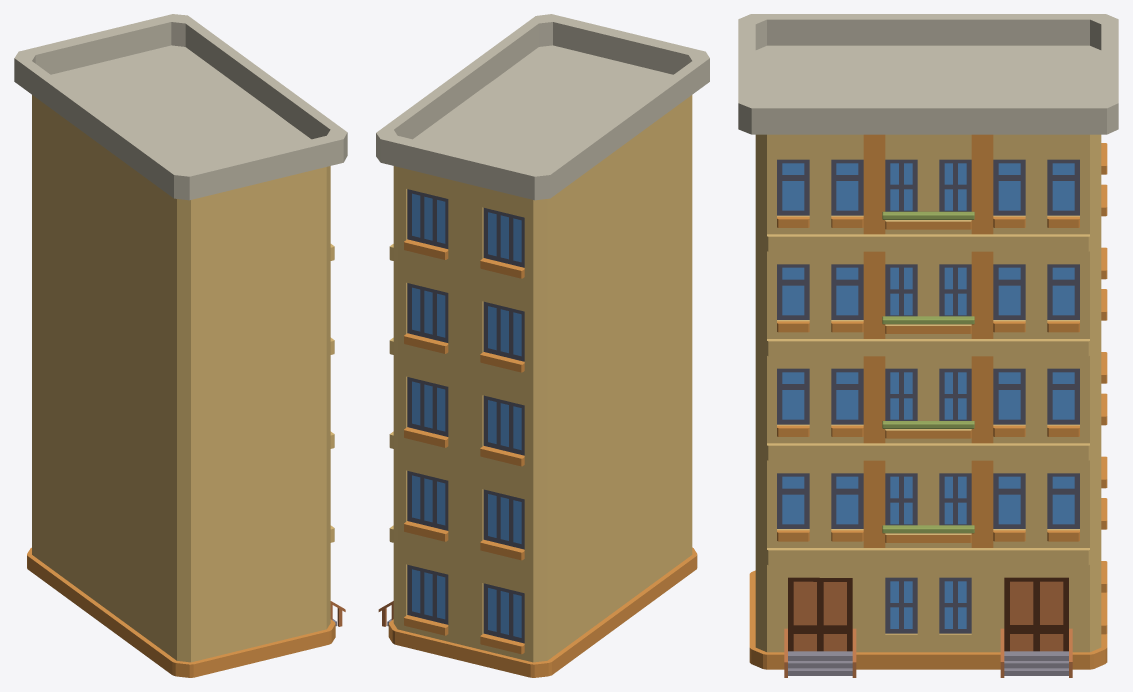
The picture shows the model from 3 angles, left to right: view 1: azimuth 30°, elevation 25°; view 2: azimuth 150°, elevation 25°; view 3: azimuth 270°, elevation 25°; orthographic projection. The views are drawn at different scales.
Parts seen in each view (by area): view 1: Predio 1.002; view 2: Predio 1.002; view 3: Predio 1.002.
Part boxes in pixels (<box>): Predio 1.002: <box>14,14,347,677</box>; Predio 1.002: <box>376,14,709,677</box>; Predio 1.002: <box>738,14,1118,677</box>.
Size of the model in its own units: 4164 by 10800 by 6600.
